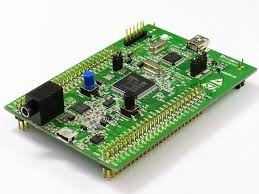STM32F4-DISC: (0, 13, 259, 194)
